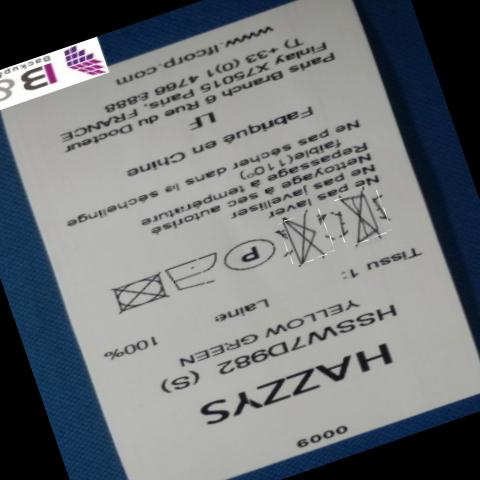DN_bleach: (282, 210, 319, 270)
DN_tumble_dry: (110, 270, 168, 319)
DN_wash: (342, 189, 381, 249)
dry_clean_any_solvent_except_trichloroethylene: (224, 233, 277, 277)
iron_low: (168, 248, 220, 298)
